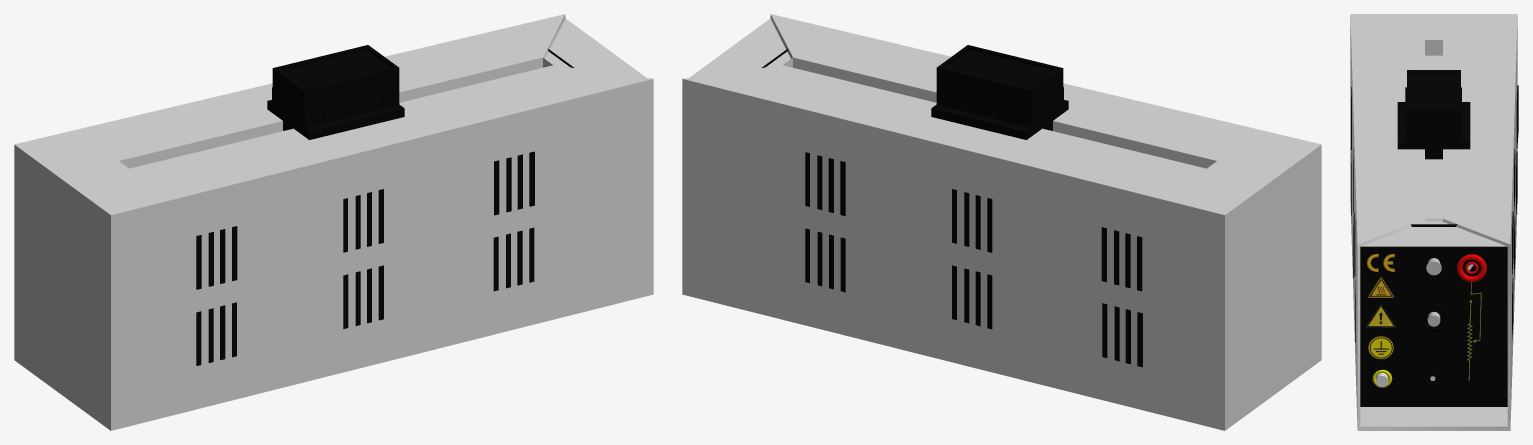
Rendered from reostato.fbx.
The picture shows the model from 3 angles, left to right: view 1: azimuth 30°, elevation 25°; view 2: azimuth 150°, elevation 25°; view 3: azimuth 270°, elevation 25°; orthographic projection. The views are drawn at different scales.
Parts seen in each view (by area): view 1: Cube, Cube.005, Cube.001, Cube.007, Cube.002, Cube.006, Cube.008, Cube.003; view 2: Cube, Cube.005, Cube.015, Cube.016, Cube.018, Cube.019, Cube.017, Cube.020; view 3: Cube, Cube.005, ic_ce_qs-removebg-preview, image550-removebg-preview, Torus, F8134542-01-removebg-preview, Torus.005, 183940_20190528-115836-removebg-preview, descarga-removebg-preview, Torus.002.
Boxes of the visible parts, <box> form: Cube: <box>14,14,653,430</box>; Cube.005: <box>267,45,404,139</box>; Cube.001: <box>494,151,534,215</box>; Cube.007: <box>196,226,237,289</box>; Cube.002: <box>493,227,534,291</box>; Cube.006: <box>343,265,383,328</box>; Cube.008: <box>196,302,236,365</box>; Cube.003: <box>343,189,383,252</box>; Cube: <box>682,14,1321,430</box>; Cube.005: <box>931,45,1068,139</box>; Cube.015: <box>1101,227,1142,291</box>; Cube.016: <box>1102,303,1142,367</box>; Cube.018: <box>952,265,992,329</box>; Cube.019: <box>805,152,845,215</box>; Cube.017: <box>952,189,992,252</box>; Cube.020: <box>805,228,845,292</box>; Cube: <box>1350,14,1517,430</box>; Cube.005: <box>1397,70,1470,159</box>; ic_ce_qs-removebg-preview: <box>1360,246,1402,282</box>; image550-removebg-preview: <box>1368,336,1393,359</box>; Torus: <box>1457,254,1486,282</box>; F8134542-01-removebg-preview: <box>1366,304,1395,327</box>; Torus.005: <box>1419,304,1449,331</box>; 183940_20190528-115836-removebg-preview: <box>1368,277,1393,297</box>; descarga-removebg-preview: <box>1467,282,1481,380</box>; Torus.002: <box>1423,369,1442,387</box>.
Size of the model in its own units: 127 by 58.07 by 39.25.
